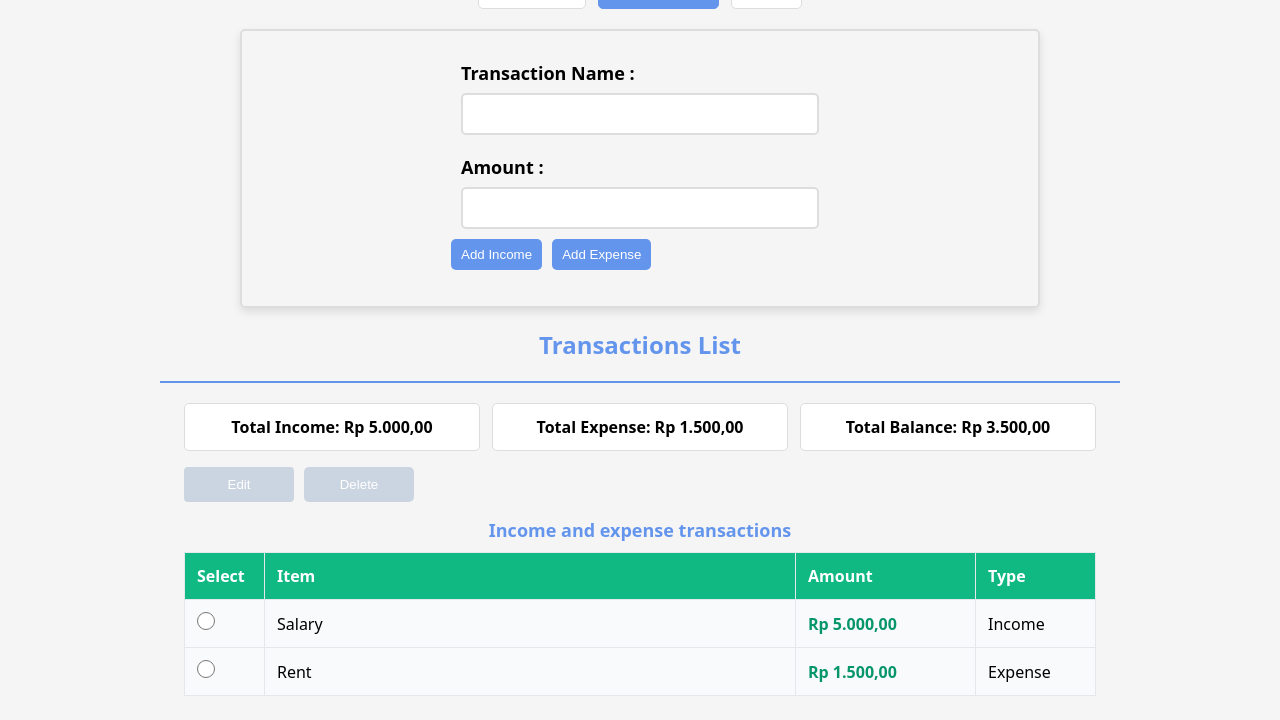
Scenario: deletes the selected expense and refreshes the transaction list
The image size is (1280, 720).
(page scrolled)
Expected: the text "Salary" is shown, [264,600,796,648]
Expected: the text "Rent" is shown, [264,648,796,696]
Click the radio button named "select expense rent" next to "Rent": (206,669) [197,660,215,678]
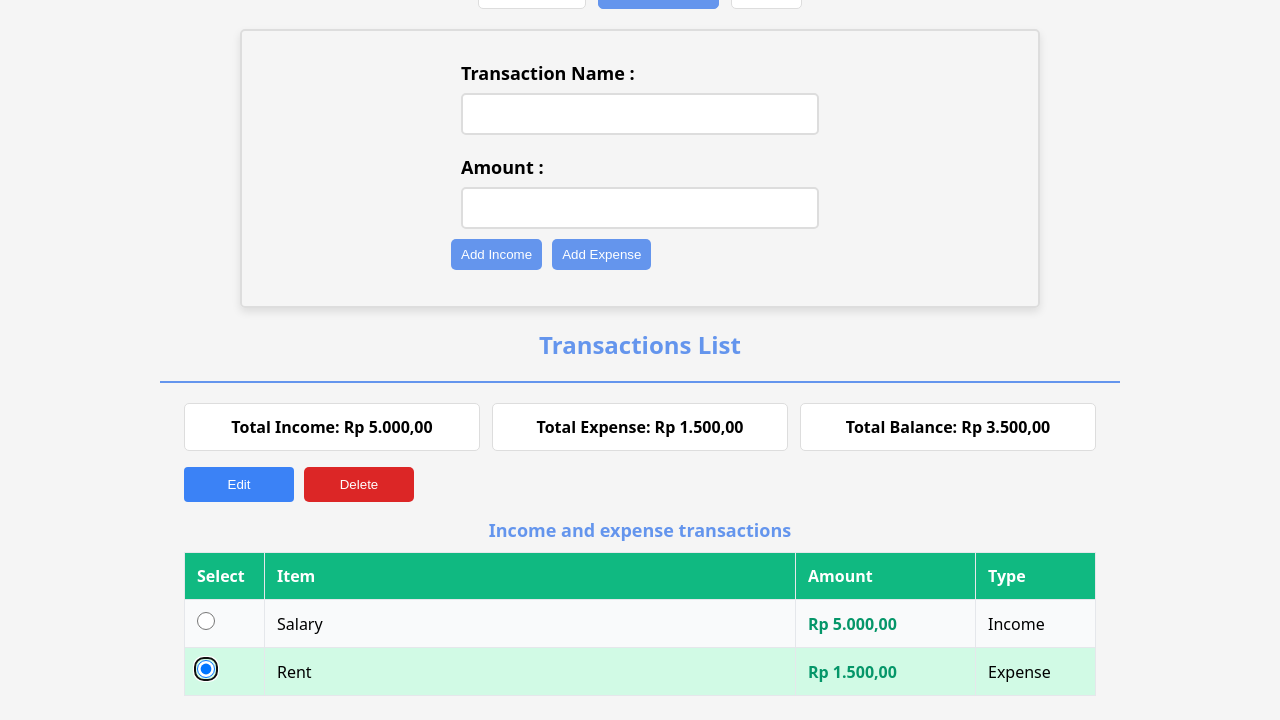
Click the button "Delete": (359,484) [304,467,414,502]
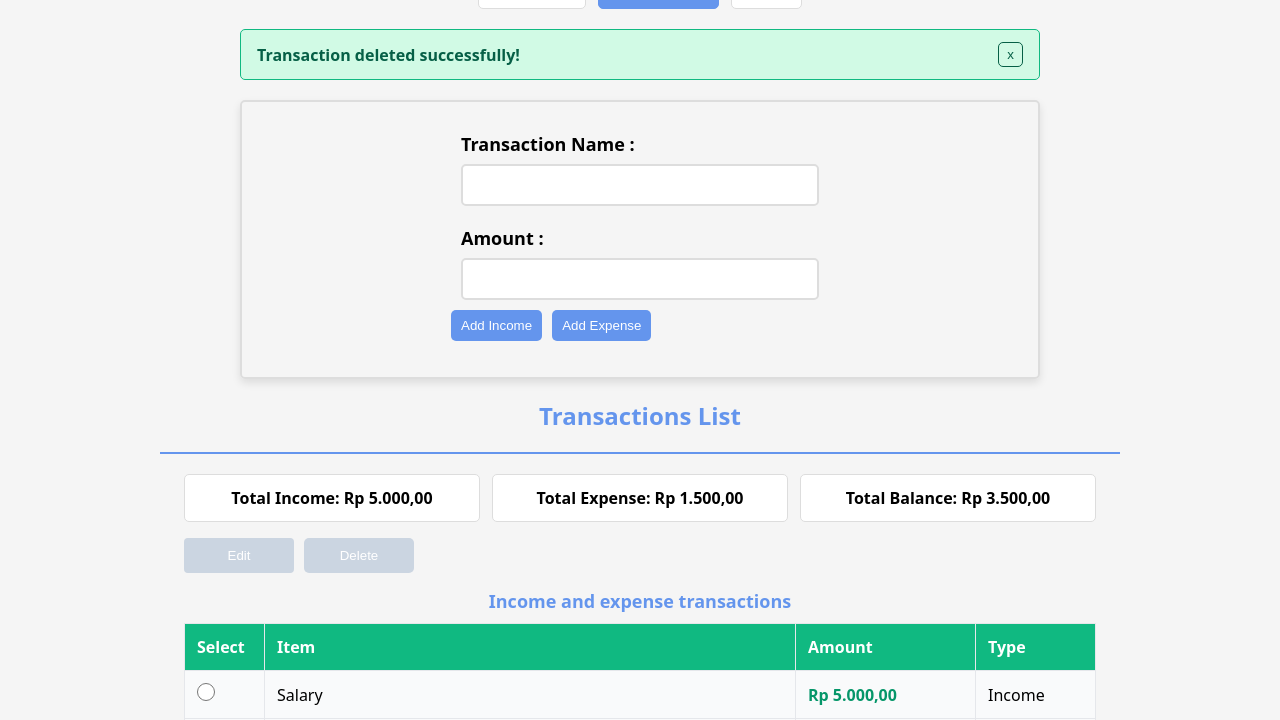
Expected: the text "Transaction deleted successfully!" is shown, [257,44,520,66]
Expected: the message "Transaction deleted successfully! x" is shown, [240,29,1040,80]
